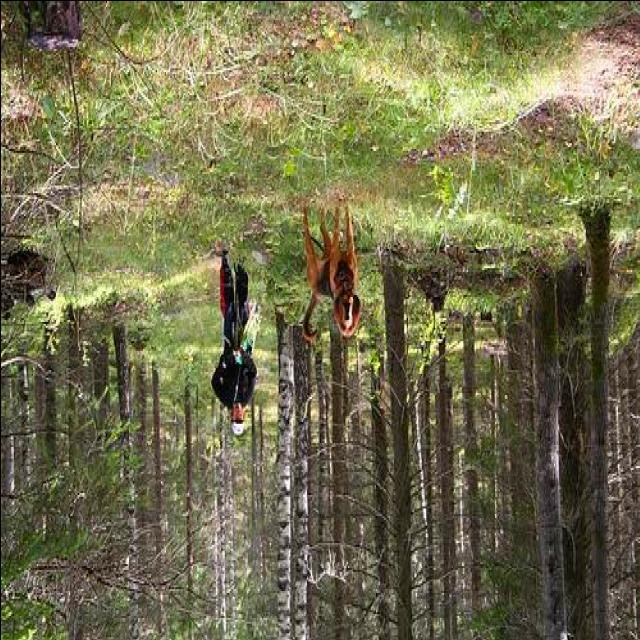bloodhound: (300, 196, 364, 344)
